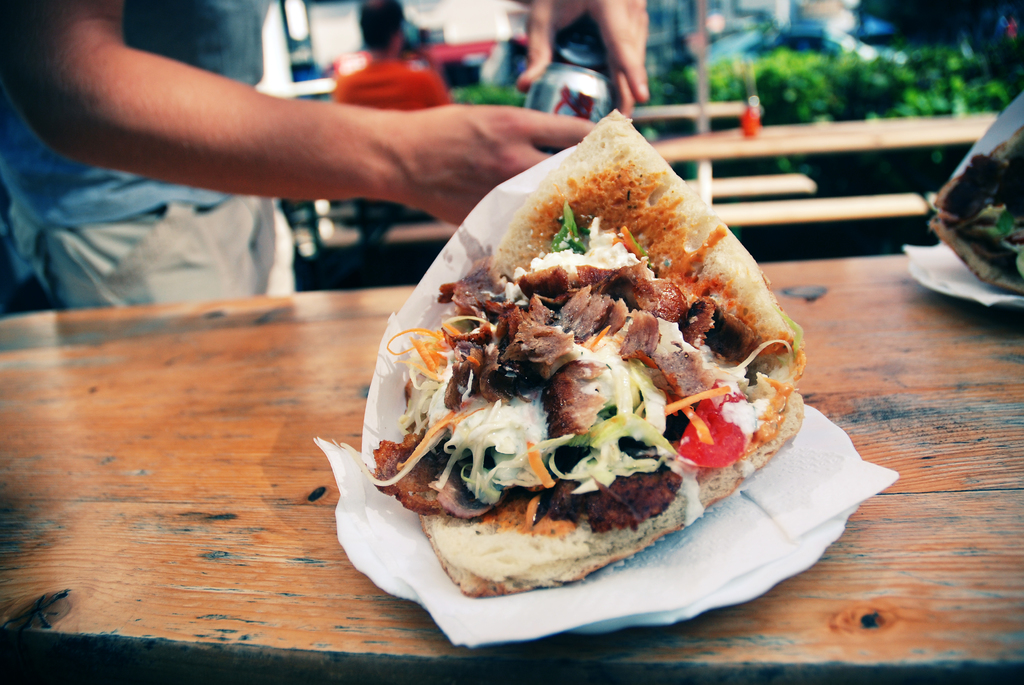sandwich: (376, 111, 806, 598)
